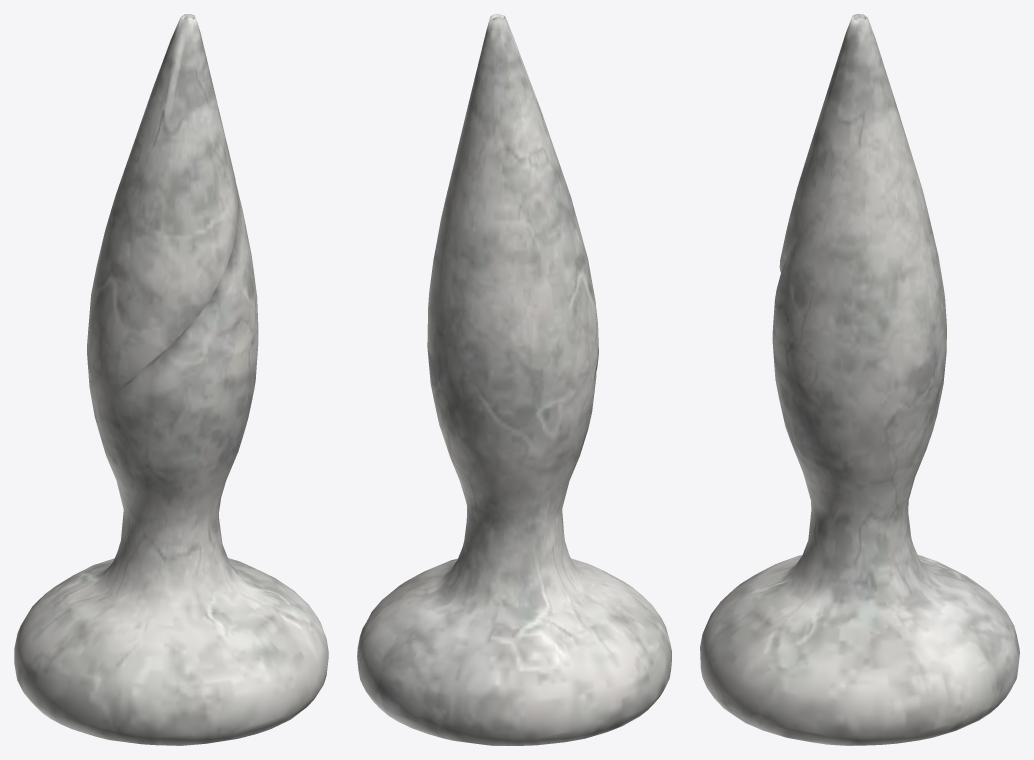
The model's file is Serpentina_bishop_white.glb.
The picture shows the model from 3 angles, left to right: view 1: azimuth 30°, elevation 25°; view 2: azimuth 150°, elevation 25°; view 3: azimuth 270°, elevation 25°; orthographic projection.
Visible parts, largest first — view 1: Serpentina_bishop_white; view 2: Serpentina_bishop_white; view 3: Serpentina_bishop_white.
Part boxes in pixels (box(x1,y1,x2,y2)): Serpentina_bishop_white: box(14, 14, 328, 745); Serpentina_bishop_white: box(357, 14, 671, 745); Serpentina_bishop_white: box(700, 14, 1019, 745).
Bounding box in the file's own units: 0.0371 × 0.0866 × 0.0371.
Materials: 1 (1 with a texture image).
